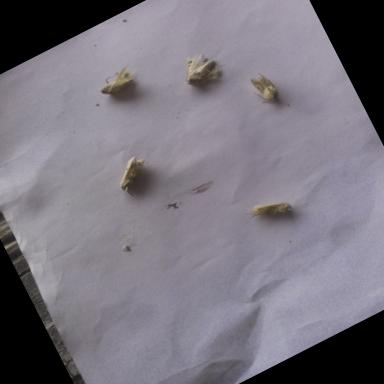abw: (170, 40, 232, 98), (240, 184, 302, 237), (107, 150, 160, 203), (91, 57, 145, 105), (242, 62, 290, 112)
